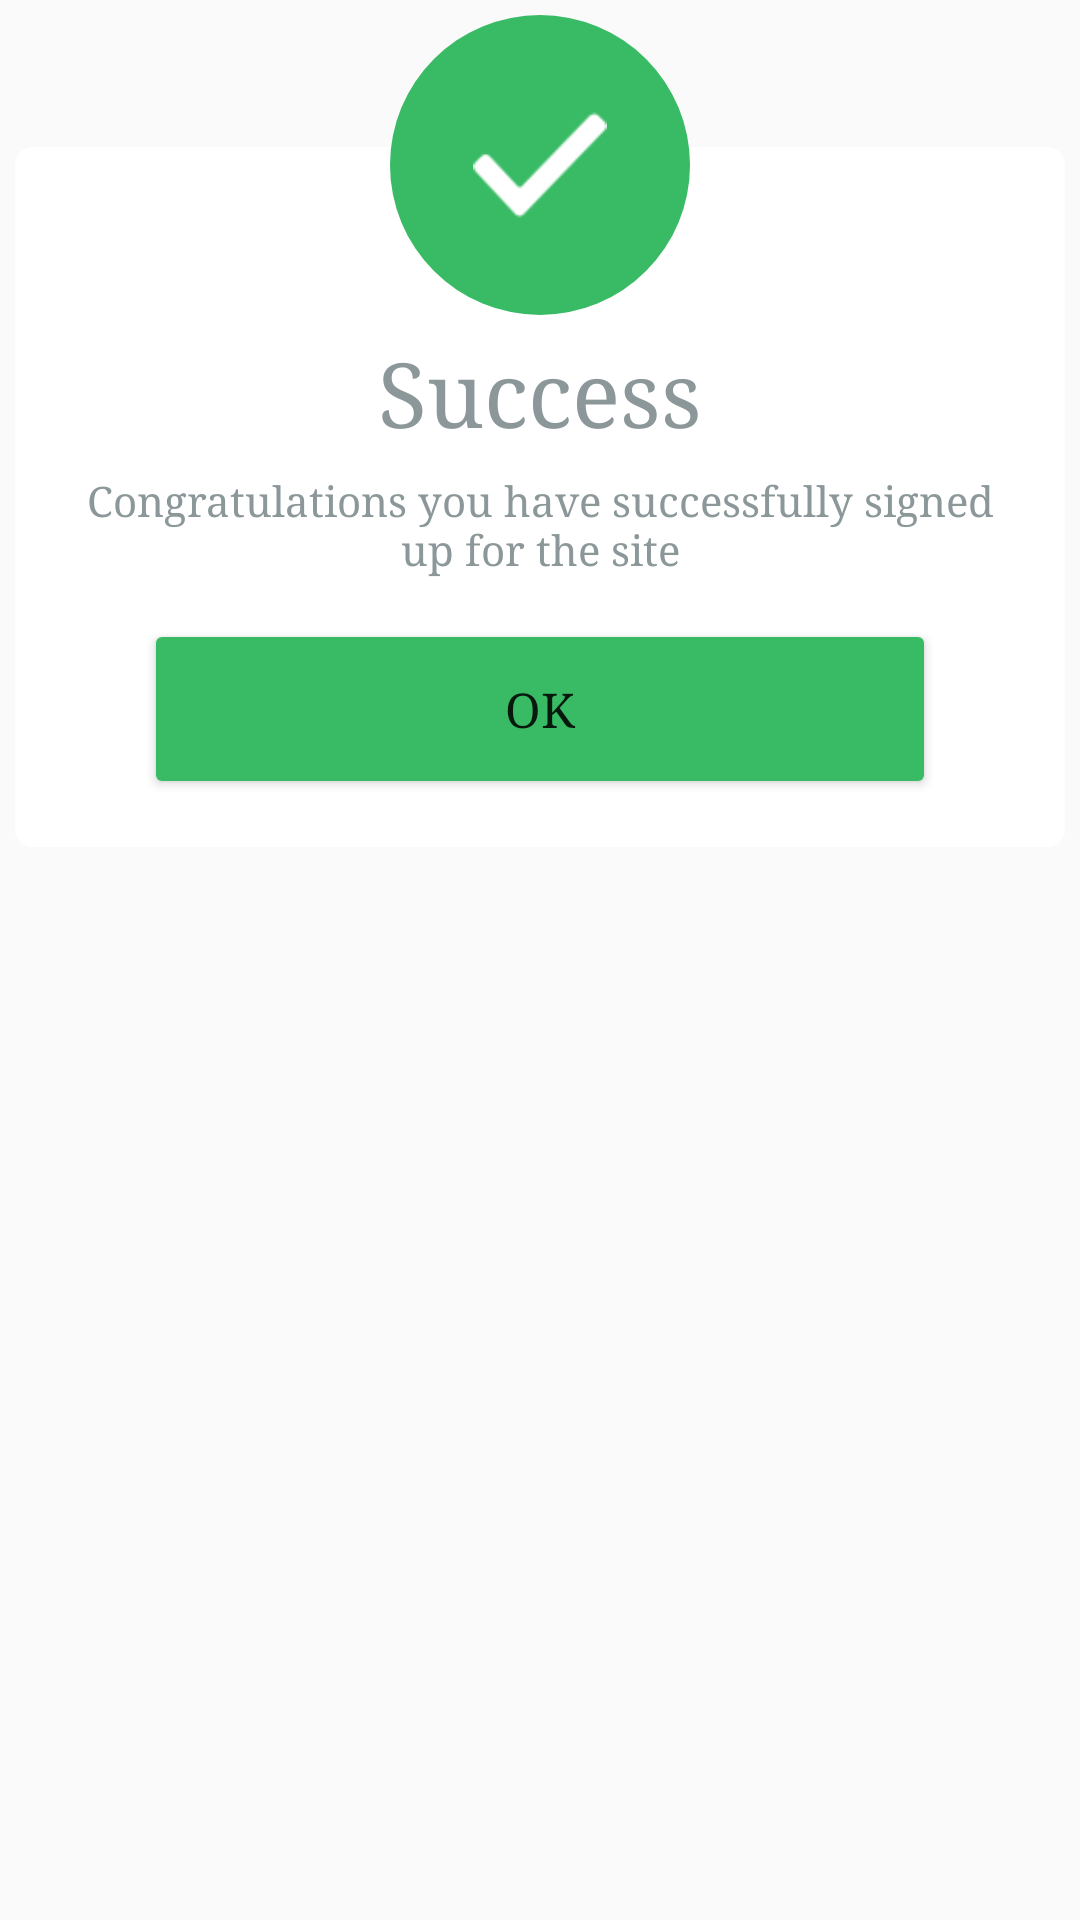

Locate icon controls on the screen. Image size 1080 × 1920, boxes as BBox(x1, y1, x2, y2).
check: BBox(390, 15, 690, 315)
